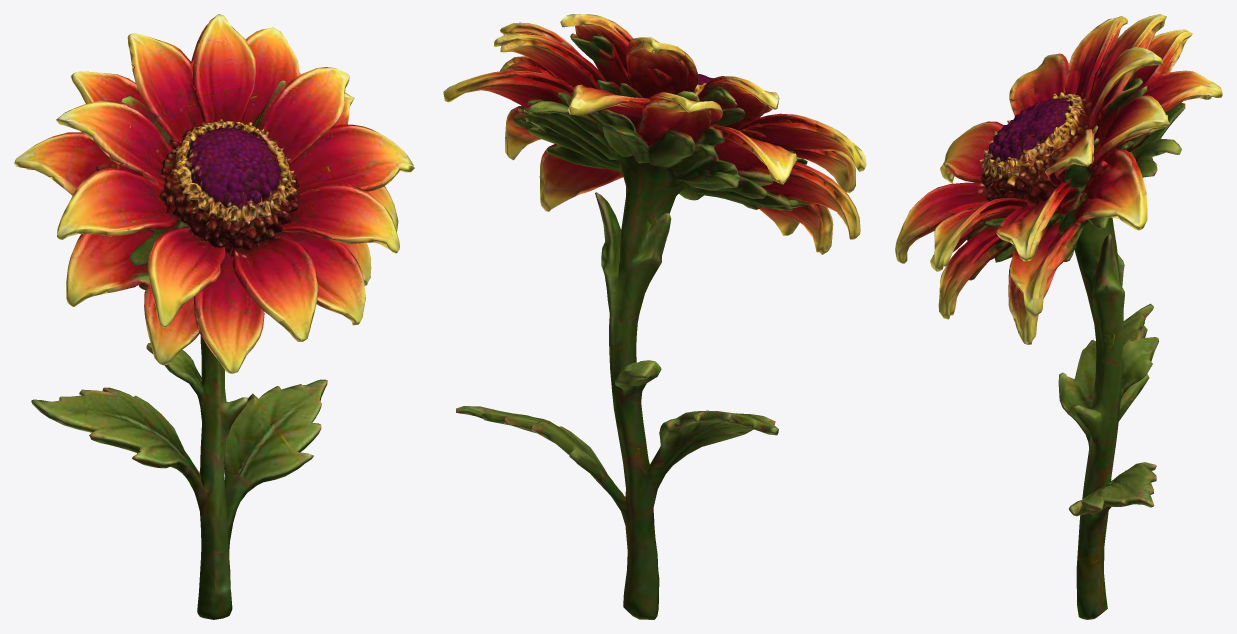
3 renders of one model, left to right at view 1: azimuth 30°, elevation 25°; view 2: azimuth 150°, elevation 25°; view 3: azimuth 270°, elevation 25°, orthographic. The views are drawn at different scales.
Parts seen in each view (by area): view 1: mesh_node; view 2: mesh_node; view 3: mesh_node.
Part boxes in pixels (x1,y1,x2,y2): mesh_node: (14,14,414,619); mesh_node: (443,14,866,619); mesh_node: (895,14,1222,619).
Size of the model in its own units: 1.22 by 1.9 by 0.9761.
1 material, 1 textured.
